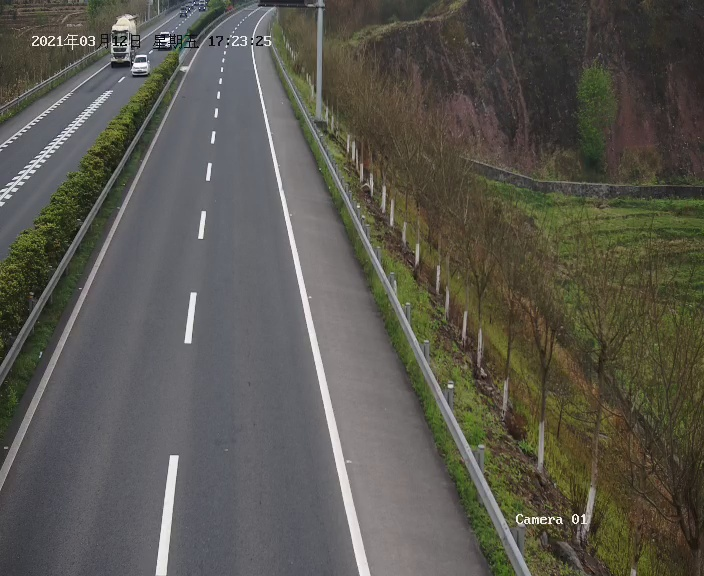car: (131, 54, 150, 77), (156, 31, 171, 49)
chemicals vehicle: (110, 13, 137, 67)
